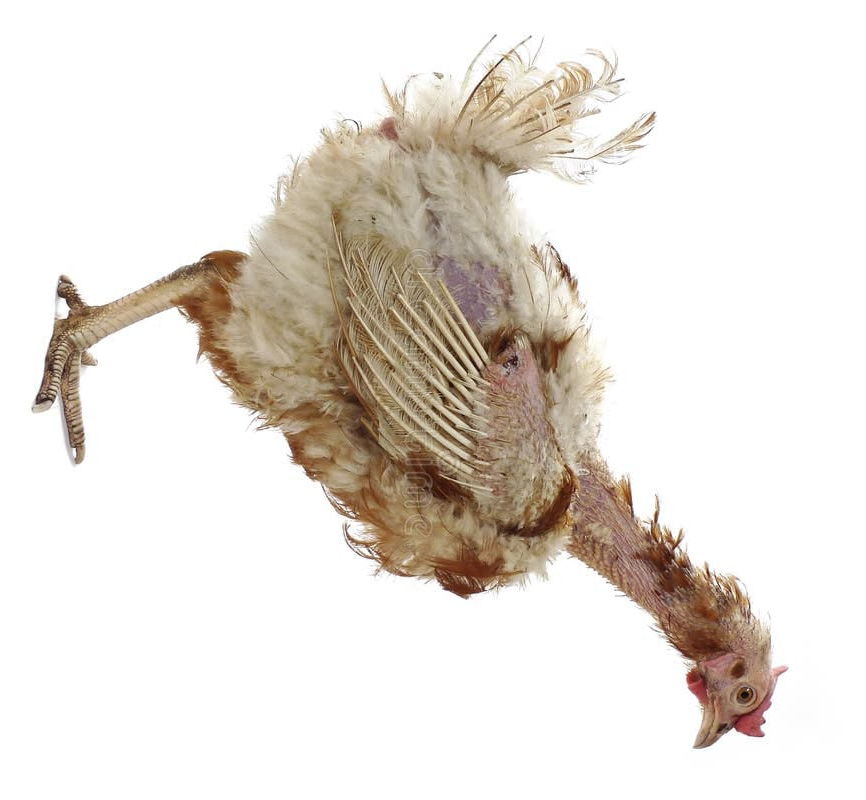Unhealthy: (14, 28, 801, 778)
